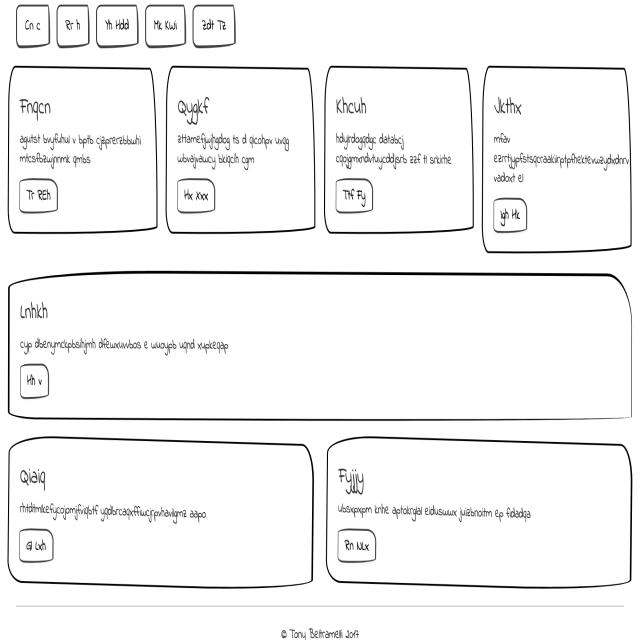Button: (176, 174, 217, 215), (18, 177, 60, 214), (335, 175, 373, 215), (492, 195, 528, 231), (20, 526, 55, 563), (338, 530, 377, 561), (18, 363, 50, 399)
Card: (8, 272, 634, 421), (7, 434, 314, 590), (325, 435, 632, 589), (483, 63, 632, 252), (166, 64, 316, 230), (325, 65, 474, 232), (9, 65, 157, 232)
Footer: (0, 603, 640, 640)
Heading 6: (16, 92, 56, 121), (175, 95, 212, 125), (493, 90, 525, 122), (339, 466, 368, 495), (334, 95, 372, 117), (16, 464, 49, 488), (17, 303, 48, 319)
Navigation Bar: (17, 2, 235, 49)
Paragraph: (494, 132, 630, 184), (334, 498, 535, 524), (17, 499, 210, 525), (174, 130, 290, 170), (330, 130, 453, 166), (19, 336, 232, 354)
